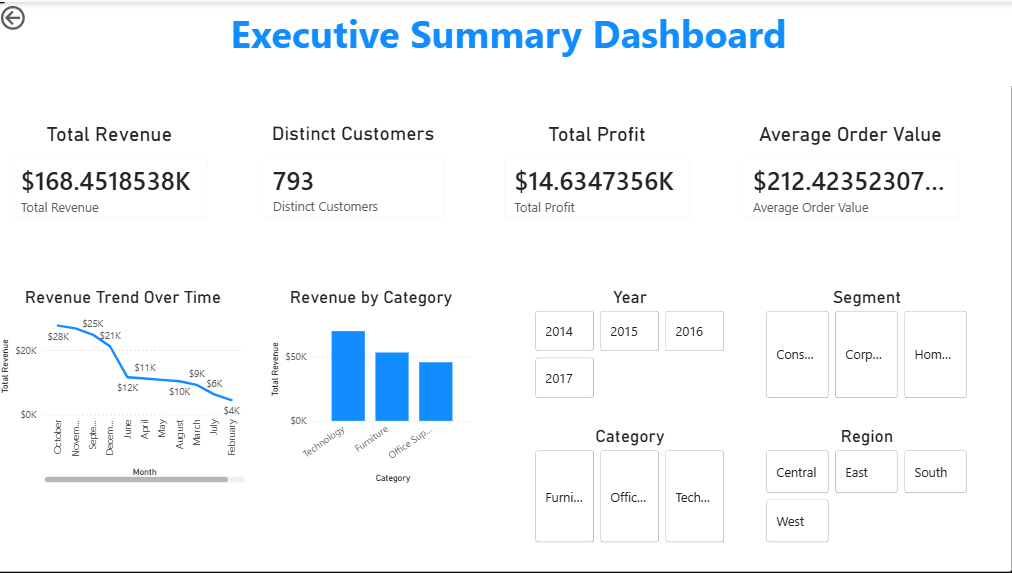

Layout of this report page (visuals, bound fields, positions):
{"tool":"powerbi","page":{"name":"Page 1","canvas":[1280,720],"ordinal":0},"visuals":[{"type":"textbox","box":[9.4,0,1269.9,105.8],"z":0},{"type":"cardVisual","title":"Total Revenue","fields":{"Data":["Superstore Dataset.Total Revenue"]},"box":[0,151.2,283.5,138],"z":1},{"type":"cardVisual","title":"Total Profit","fields":{"Data":["Superstore Dataset.Total Profit"]},"box":[621.7,151.2,268.3,138],"z":2},{"type":"cardVisual","title":"Distinct Customers","fields":{"Data":["Superstore Dataset.Distinct Customers"]},"box":[317.5,151.2,262.7,138],"z":3},{"type":"cardVisual","title":"Average Order Value","fields":{"Data":["Superstore Dataset.Average Order Value"]},"box":[922.2,151.2,306.1,138],"z":4},{"type":"lineChart","title":"Revenue Trend Over Time","fields":{"Y":["Superstore Dataset.Total Revenue"],"Category":["DimDate.Month Number"]},"box":[0,359.1,317.5,251.3],"z":5},{"type":"clusteredColumnChart","title":"Revenue by Category","fields":{"Category":["DimProduct.Category"],"Y":["Superstore Dataset.Total Revenue"]},"box":[340.2,359.1,262.7,251.3],"z":6},{"type":"actionButton","box":[0,0,100,40],"z":8},{"type":"advancedSlicerVisual","fields":{"Values":["DimDate.Year"]},"box":[672.8,359.1,249.5,145.5],"z":9},{"type":"advancedSlicerVisual","fields":{"Values":["DimProduct.Category"]},"box":[672.8,534.8,249.5,151.2],"z":10},{"type":"advancedSlicerVisual","fields":{"Values":["DimCustomer.Segment"]},"box":[963.8,359.1,264.6,145.5],"z":11},{"type":"advancedSlicerVisual","fields":{"Values":["Superstore Dataset.Region"]},"box":[963.8,534.8,264.6,151.2],"z":12}]}

Visuals, with their boxes in screenshot pixels (x1, y1, x2, y2), scaled from the page's 1280x720 canvas onto the 1012x573 screenshot:
textbox: bbox=(7, 0, 1011, 84)
"Total Revenue" cardVisual: bbox=(0, 120, 224, 230)
"Total Profit" cardVisual: bbox=(492, 120, 704, 230)
"Distinct Customers" cardVisual: bbox=(251, 120, 459, 230)
"Average Order Value" cardVisual: bbox=(729, 120, 971, 230)
"Revenue Trend Over Time" lineChart: bbox=(0, 286, 251, 486)
"Revenue by Category" clusteredColumnChart: bbox=(269, 286, 477, 486)
actionButton: bbox=(0, 0, 79, 32)
advancedSlicerVisual - DimDate.Year: bbox=(532, 286, 729, 402)
advancedSlicerVisual - DimProduct.Category: bbox=(532, 426, 729, 546)
advancedSlicerVisual - DimCustomer.Segment: bbox=(762, 286, 971, 402)
advancedSlicerVisual - Superstore Dataset.Region: bbox=(762, 426, 971, 546)
